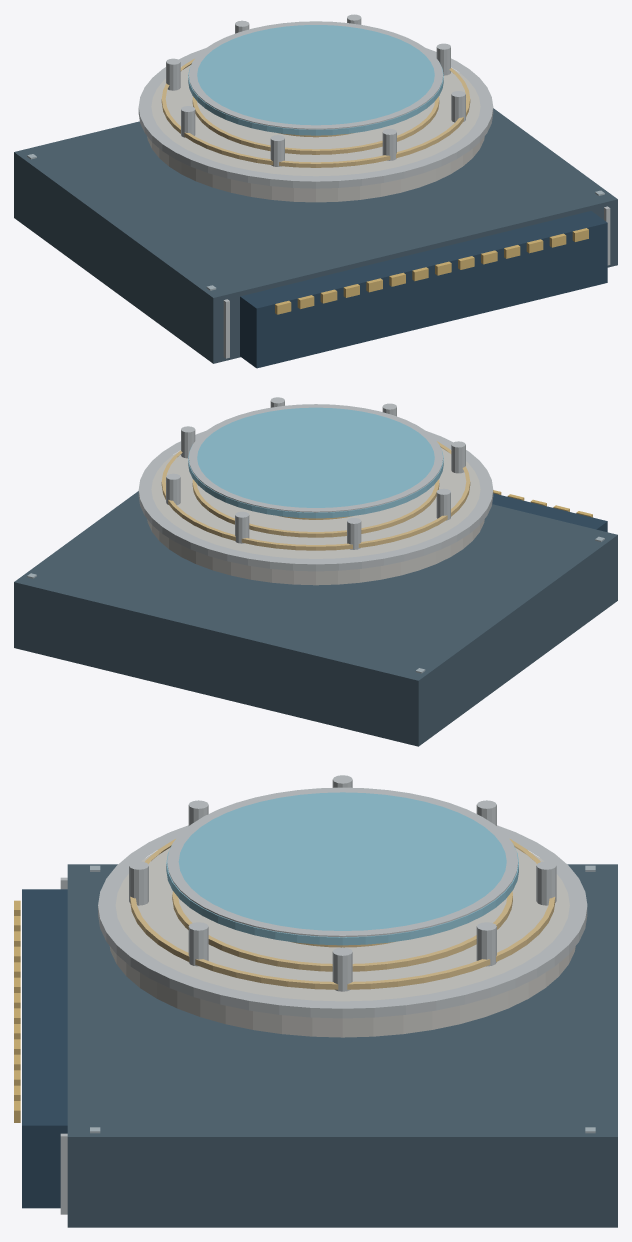
The model's file is 09_L74_SoftBakeHotplateModule.glb.
The picture shows the model from 3 angles, top to bottom: view 1: azimuth 30°, elevation 25°; view 2: azimuth 150°, elevation 25°; view 3: azimuth 270°, elevation 25°; orthographic projection. The views are drawn at different scales.
Visible parts, largest first — view 1: SoftBakeHotplateModule_Node_0000, SoftBakeHotplateModule_Node_0023, SoftBakeHotplateModule_Node_0021, SoftBakeHotplateModule_Node_0007, SoftBakeHotplateModule_Node_0008, SoftBakeHotplateModule_Node_0022, SoftBakeHotplateModule_Node_0012, SoftBakeHotplateModule_Node_0011; view 2: SoftBakeHotplateModule_Node_0000, SoftBakeHotplateModule_Node_0021, SoftBakeHotplateModule_Node_0007, SoftBakeHotplateModule_Node_0008, SoftBakeHotplateModule_Node_0022, SoftBakeHotplateModule_Node_0012, SoftBakeHotplateModule_Node_0011, SoftBakeHotplateModule_Node_0023; view 3: SoftBakeHotplateModule_Node_0000, SoftBakeHotplateModule_Node_0021, SoftBakeHotplateModule_Node_0007, SoftBakeHotplateModule_Node_0023, SoftBakeHotplateModule_Node_0008, SoftBakeHotplateModule_Node_0022, SoftBakeHotplateModule_Node_0012, SoftBakeHotplateModule_Node_0011, SoftBakeHotplateModule_Node_0019, SoftBakeHotplateModule_Node_0013, SoftBakeHotplateModule_Node_0015, SoftBakeHotplateModule_Node_0014 (+2 smaller).
Part boxes in pixels (x1,y1,x2,y2): SoftBakeHotplateModule_Node_0000: [14, 108, 617, 363]; SoftBakeHotplateModule_Node_0023: [240, 211, 607, 368]; SoftBakeHotplateModule_Node_0021: [188, 25, 443, 135]; SoftBakeHotplateModule_Node_0007: [147, 65, 484, 202]; SoftBakeHotplateModule_Node_0008: [138, 48, 493, 188]; SoftBakeHotplateModule_Node_0022: [188, 21, 443, 129]; SoftBakeHotplateModule_Node_0012: [161, 58, 470, 167]; SoftBakeHotplateModule_Node_0011: [192, 96, 439, 154]; SoftBakeHotplateModule_Node_0000: [14, 491, 617, 746]; SoftBakeHotplateModule_Node_0021: [188, 407, 443, 518]; SoftBakeHotplateModule_Node_0007: [147, 448, 484, 585]; SoftBakeHotplateModule_Node_0008: [138, 431, 493, 571]; SoftBakeHotplateModule_Node_0022: [188, 404, 443, 512]; SoftBakeHotplateModule_Node_0012: [161, 441, 470, 550]; SoftBakeHotplateModule_Node_0011: [192, 479, 439, 537]; SoftBakeHotplateModule_Node_0023: [492, 493, 607, 532]; SoftBakeHotplateModule_Node_0000: [67, 864, 617, 1227]; SoftBakeHotplateModule_Node_0021: [166, 792, 518, 945]; SoftBakeHotplateModule_Node_0007: [109, 847, 575, 1037]; SoftBakeHotplateModule_Node_0023: [22, 889, 67, 1208]; SoftBakeHotplateModule_Node_0008: [98, 825, 587, 1018]; SoftBakeHotplateModule_Node_0022: [167, 787, 518, 937]; SoftBakeHotplateModule_Node_0012: [130, 839, 555, 989]; SoftBakeHotplateModule_Node_0011: [172, 891, 512, 971]; SoftBakeHotplateModule_Node_0019: [536, 861, 556, 905]; SoftBakeHotplateModule_Node_0013: [332, 947, 352, 991]; SoftBakeHotplateModule_Node_0015: [129, 861, 148, 905]; SoftBakeHotplateModule_Node_0014: [188, 922, 208, 966].
Bounding box in the file's own units: 2.12 × 0.8338 × 1.99.
